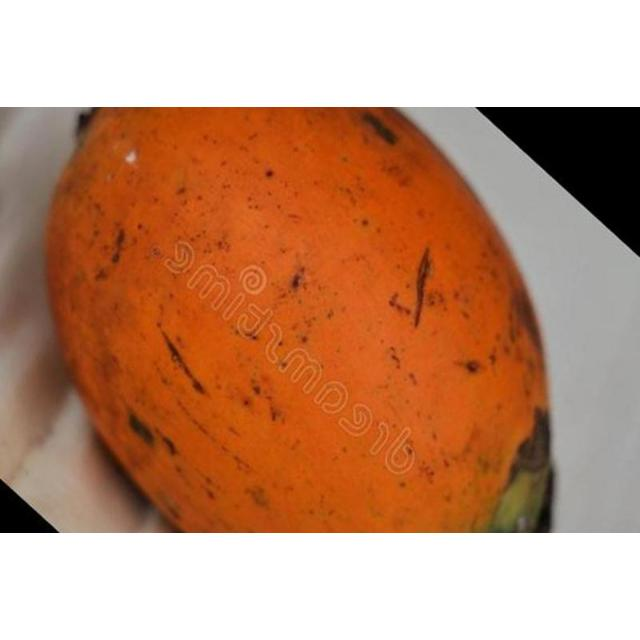good: (43, 107, 554, 533)
